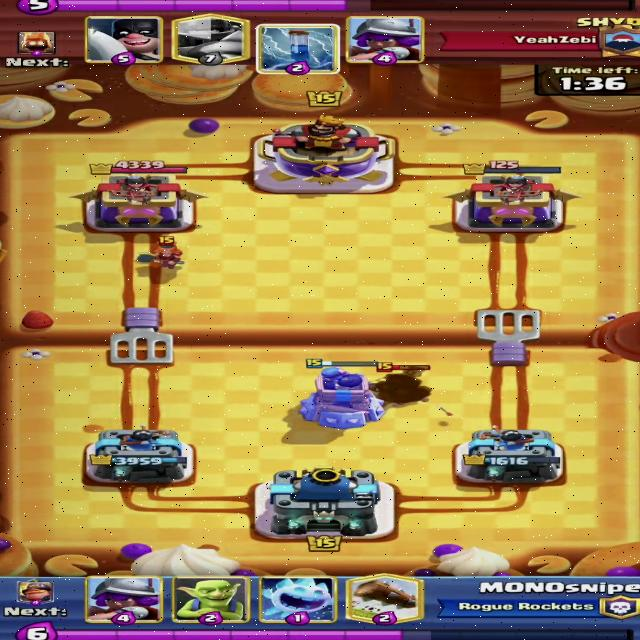Enemy-Hog: (366, 362, 432, 408)
Enemy-Valkyrie: (135, 237, 187, 270)
Player-BombTower: (298, 358, 387, 429)
